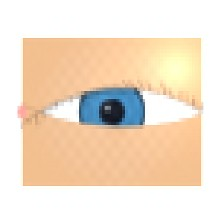hemorrhage_spot: (80, 103, 146, 156)
